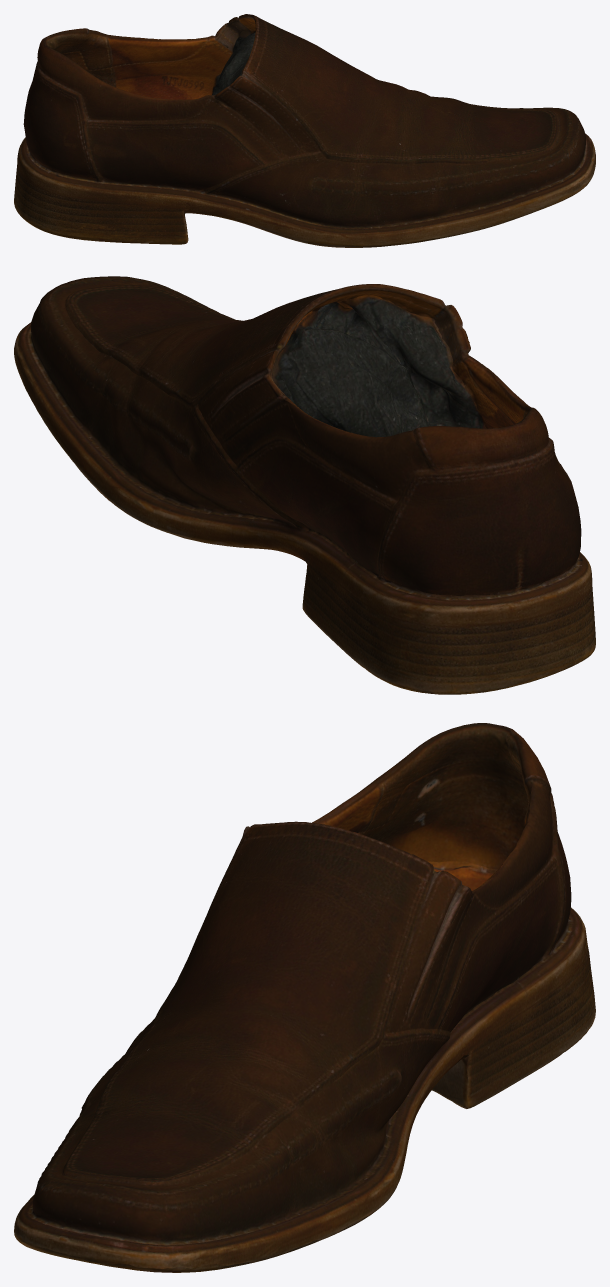
Rendered from shoe4.glb.
3 renders of one model, top to bottom at view 1: azimuth 30°, elevation 25°; view 2: azimuth 150°, elevation 25°; view 3: azimuth 270°, elevation 25°, orthographic. The views are drawn at different scales.
Parts seen in each view (by area): view 1: Object_2; view 2: Object_2; view 3: Object_2.
Boxes of the visible parts, box(x1,y1,x2,y2) form: Object_2: box(14, 14, 595, 247); Object_2: box(14, 276, 595, 694); Object_2: box(14, 723, 595, 1272).
Bounding box in the file's own units: 0.2859 × 0.1073 × 0.1912.
Materials: 1 (1 with a texture image).
